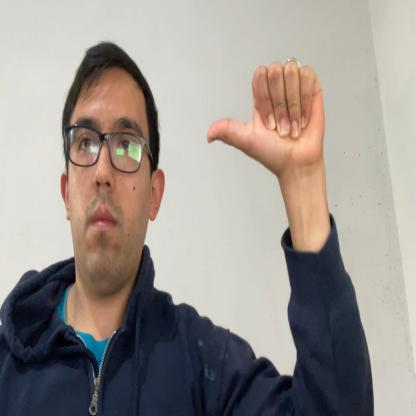A: (207, 57, 325, 170)
